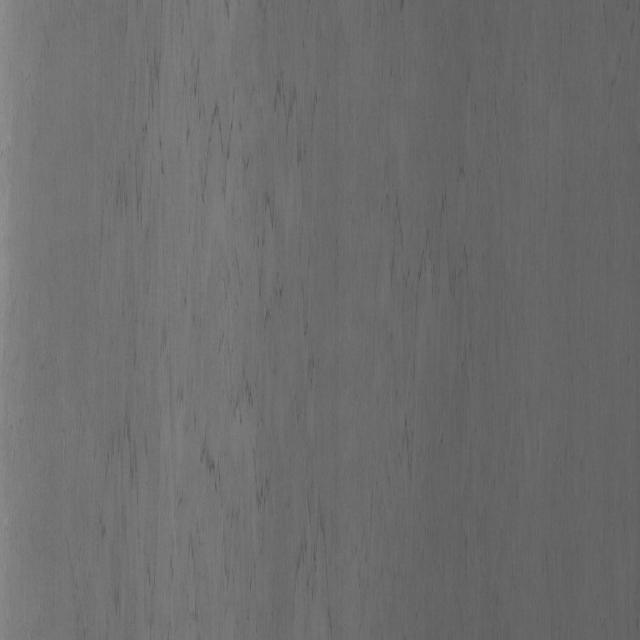inclusion: (118, 43, 339, 591)
